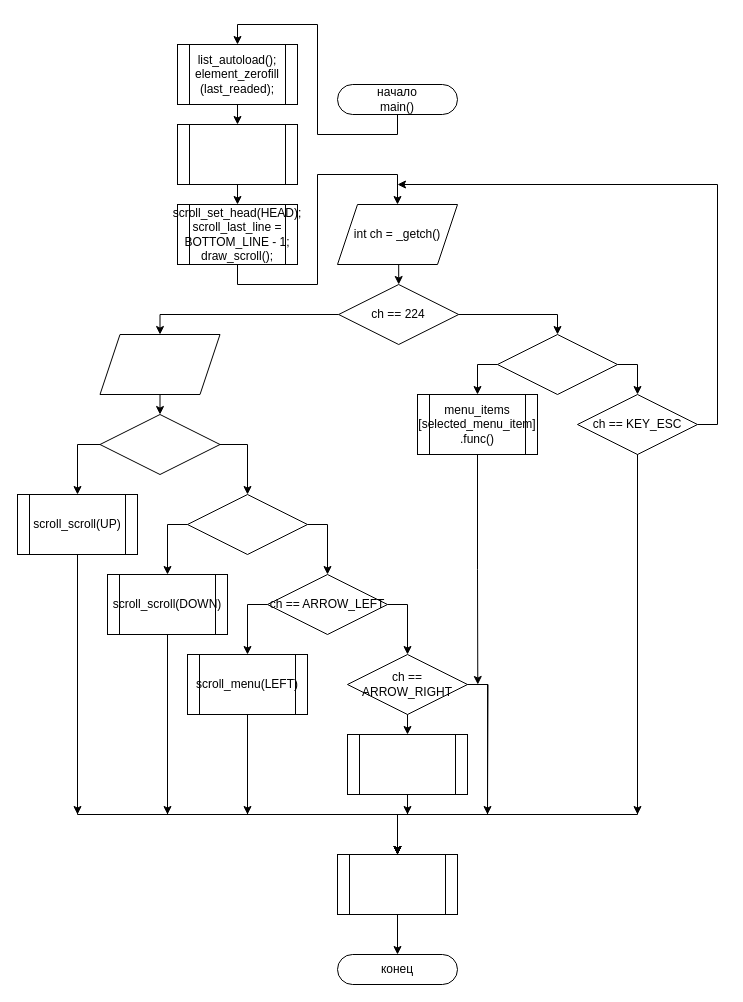
Image size: 743x1002. Some labels were removed from this diagram. Here are the shapes that lost their labels. From the top down, the box of each, then its label:
(176, 124, 298, 184): adjust_buffer(); draw_menu(); draw_header(0); start_quote();
(99, 334, 220, 394): ch = _getch()
(496, 334, 618, 394): ch == KEY_ENTER
(99, 414, 220, 474): ch == ARROW_UP
(186, 494, 308, 554): ch == ARROW_DOWN
(346, 734, 468, 794): scroll_menu(RIGHT)
(336, 854, 458, 914): exit_quote(); restore_buffer(); list_autosave(); list_release_memory()
